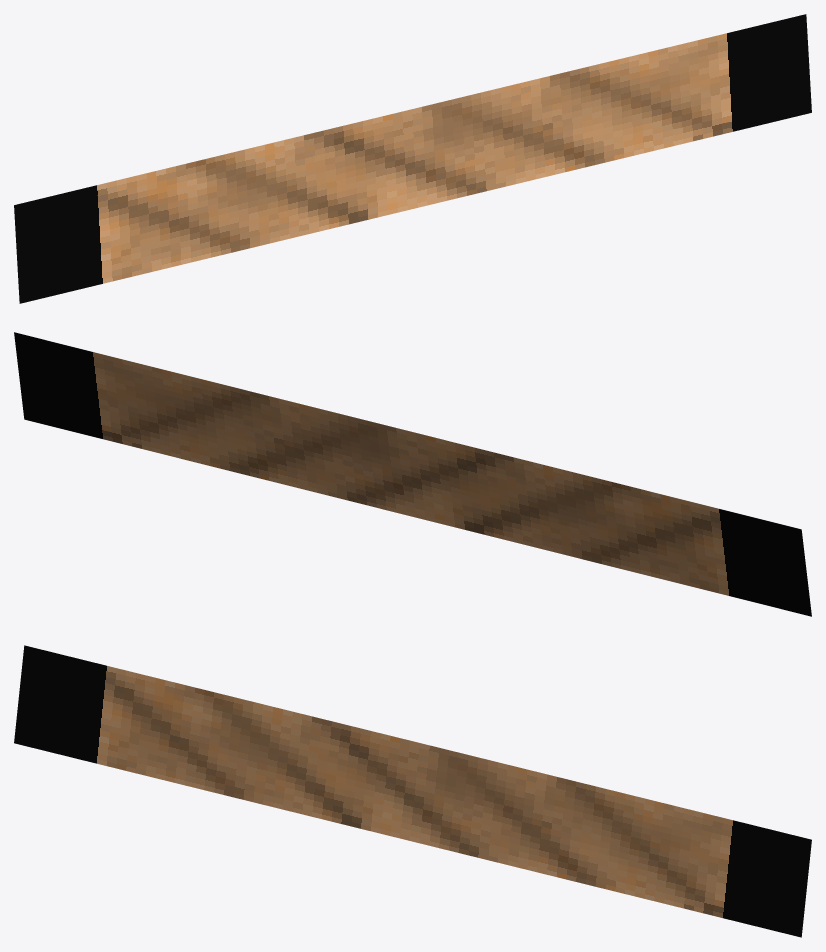
Rendered from cuerda.glb.
The picture shows the model from 3 angles, top to bottom: view 1: azimuth 30°, elevation 25°; view 2: azimuth 150°, elevation 25°; view 3: azimuth 330°, elevation 25°; orthographic projection.
Parts seen in each view (by area): view 1: Cuerda; view 2: Cuerda; view 3: Cuerda.
Boxes of the visible parts, x1,y1,x2,y2 form: Cuerda: (14, 14, 811, 303); Cuerda: (14, 332, 811, 616); Cuerda: (14, 645, 811, 937).
Size of the model in its own units: 1.63 by 0.1843 by 0.0415.
Materials: 1 (1 with a texture image).
